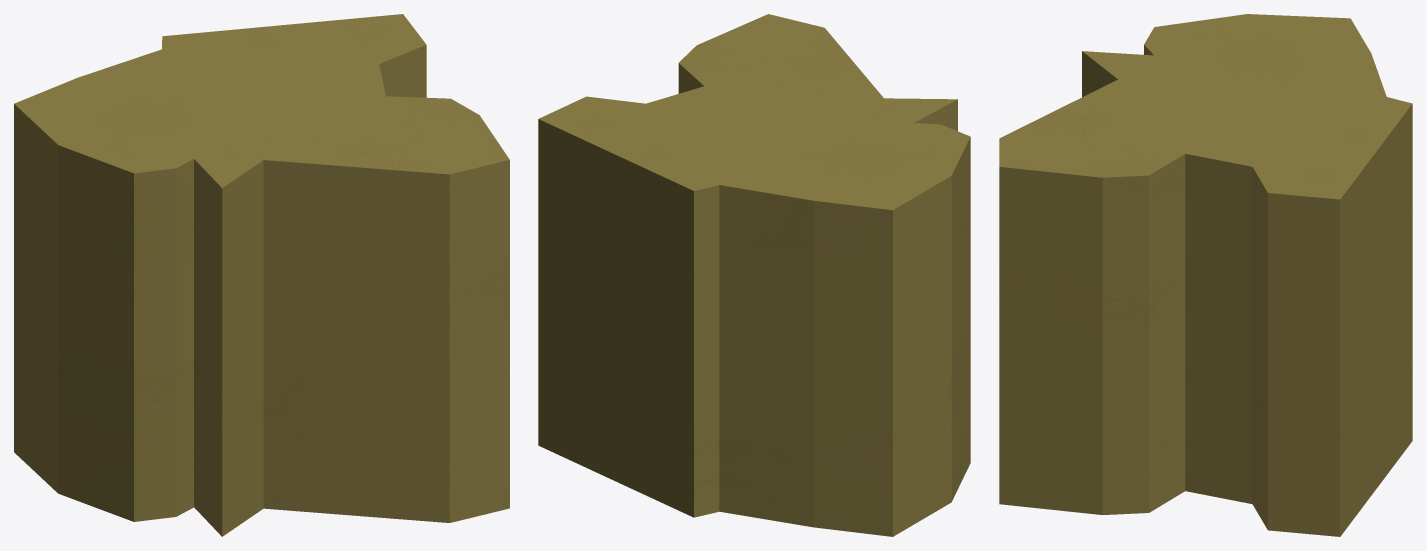
Rendered from estonia.DAE.
The picture shows the model from 3 angles, left to right: view 1: azimuth 30°, elevation 25°; view 2: azimuth 150°, elevation 25°; view 3: azimuth 270°, elevation 25°; orthographic projection. The views are drawn at different scales.
Visible parts, largest first — view 1: Estonia; view 2: Estonia; view 3: Estonia.
Boxes of the visible parts, x1=… form: Estonia: x1=14, y1=14, x2=509, y2=536; Estonia: x1=538, y1=14, x2=970, y2=536; Estonia: x1=999, y1=14, x2=1412, y2=536.
Bounding box in the file's own units: 29.49 × 27.75 × 25.
1 material, 1 textured.
